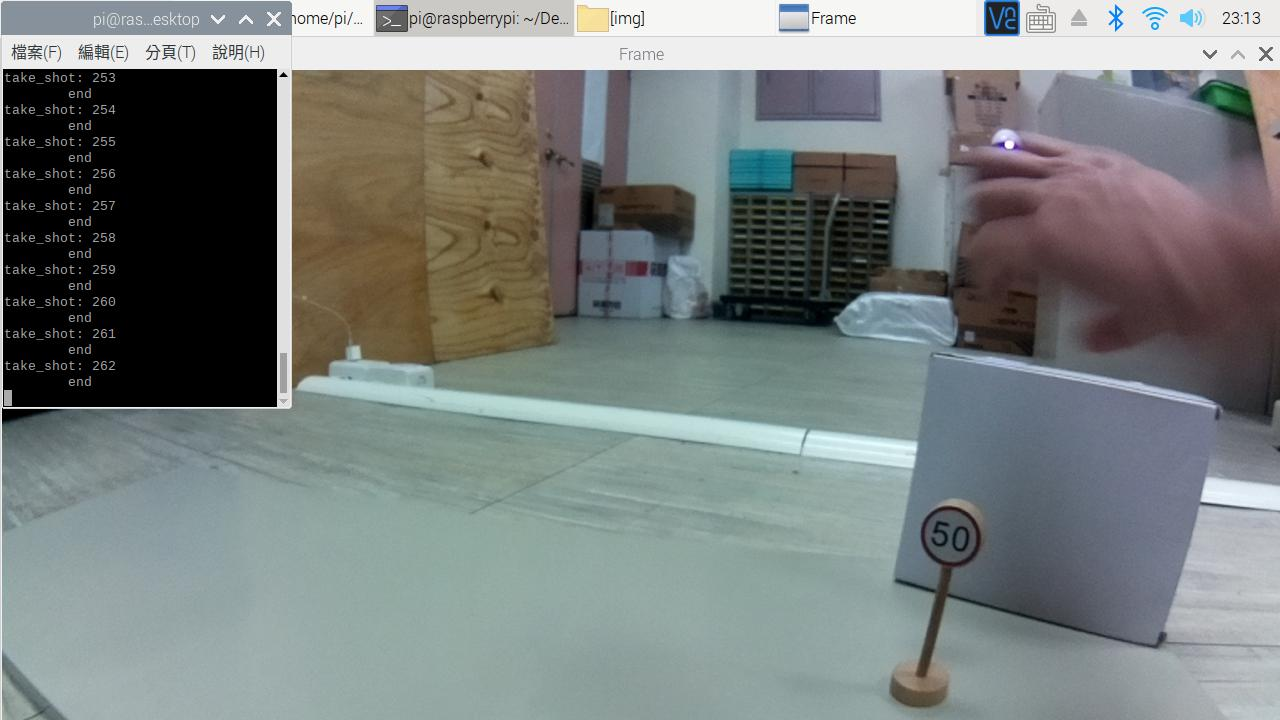Speed50: (900, 494, 1001, 586)
